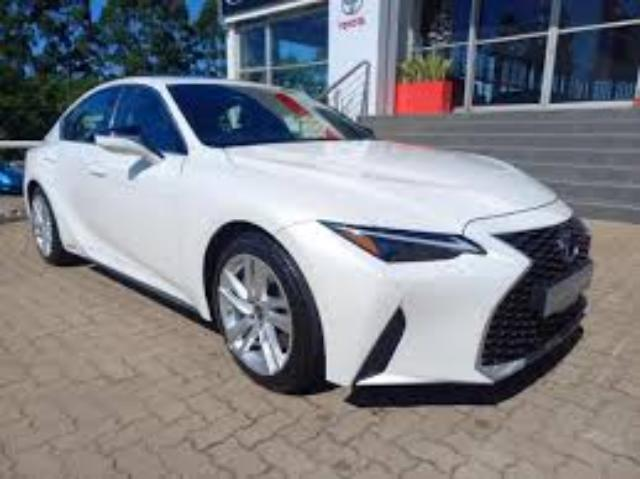lexus: (23, 75, 593, 391)
